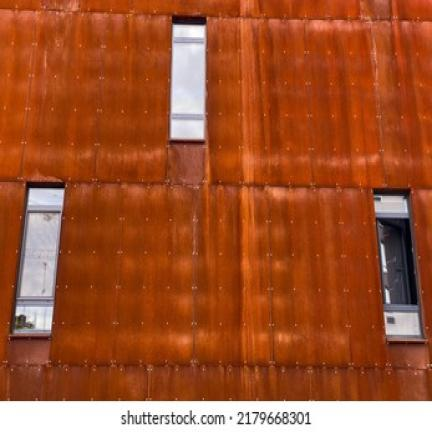karat: (2, 1, 431, 402)
